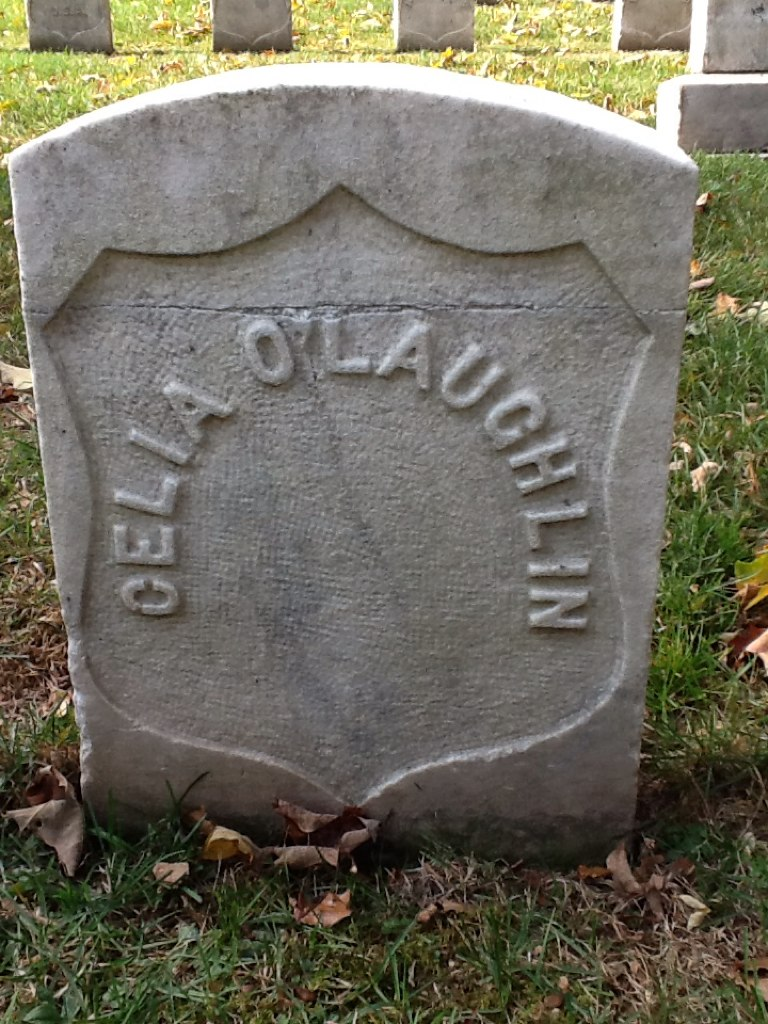military: (7, 54, 709, 918)
